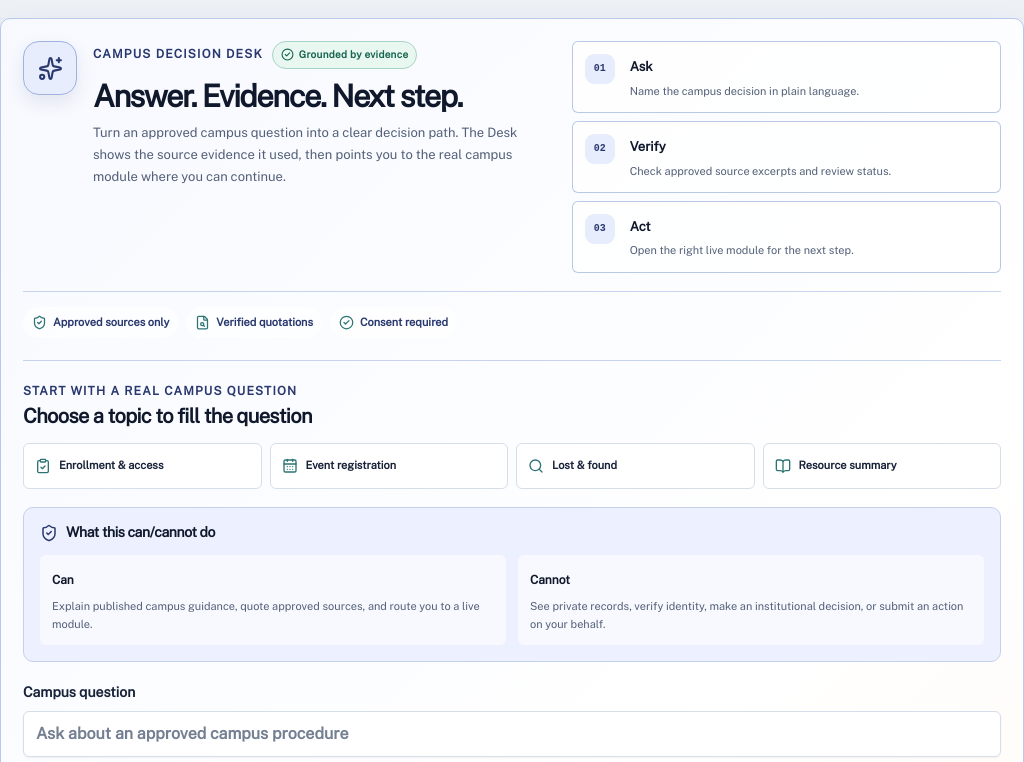
Campus Decision Desk › shows its decision flow, boundaries, and topic chips that fill the question
Expected: the heading "Answer. Evidence. Next step." is shown, [93,78,462,114]
Expected: the text "CAMPUS DECISION DESK" is shown, [93,46,263,63]
What coordinates should you click on to do the following:
click the button "Event registration"
I would click on:
 (389, 466)
Its box is [270,443,508,489].
(page scrolled)
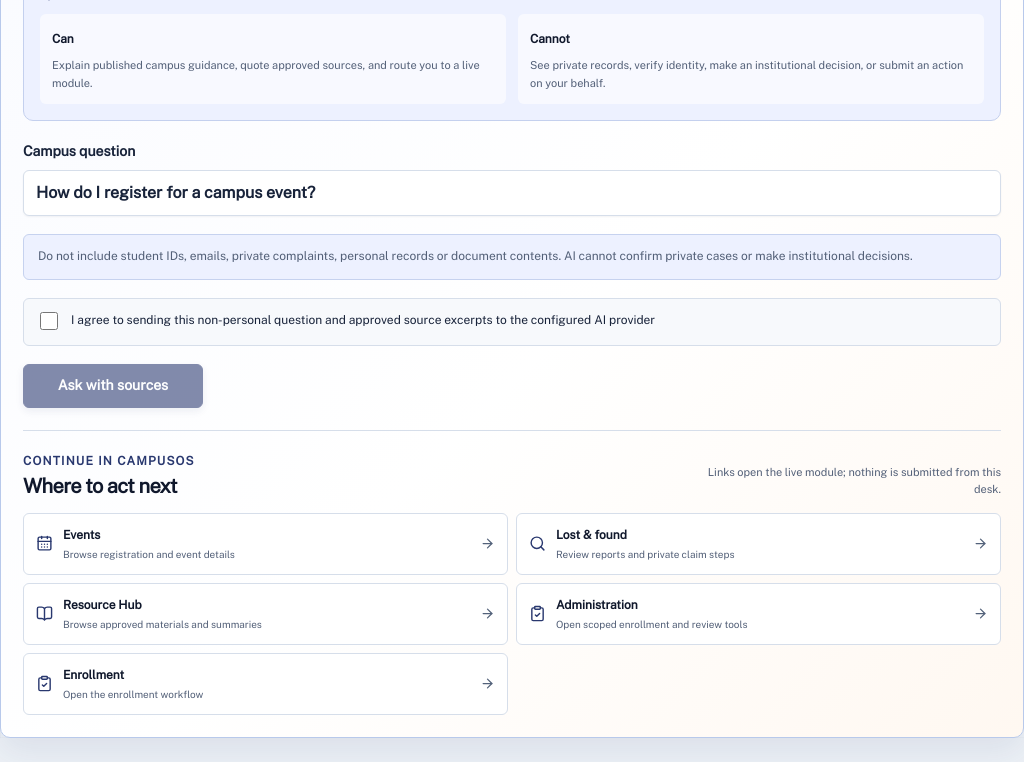
Expected: the button "Ask with sources" is disabled, [23,364,203,408]
Result: the field labelled "Campus question" holds "How do I register for a campus event?" at [23,170,1001,216]
